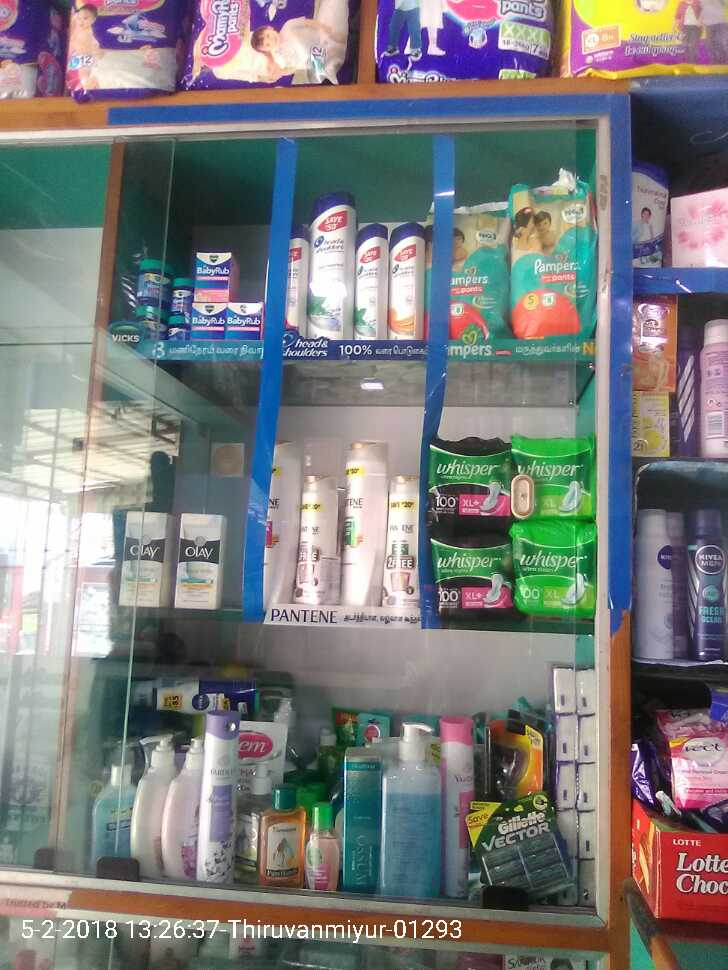vicks: (107, 229, 263, 347)
